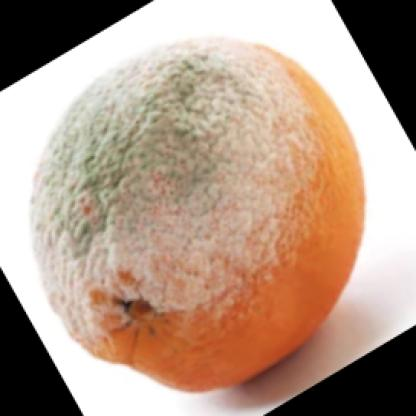rotten: (31, 38, 368, 393)
